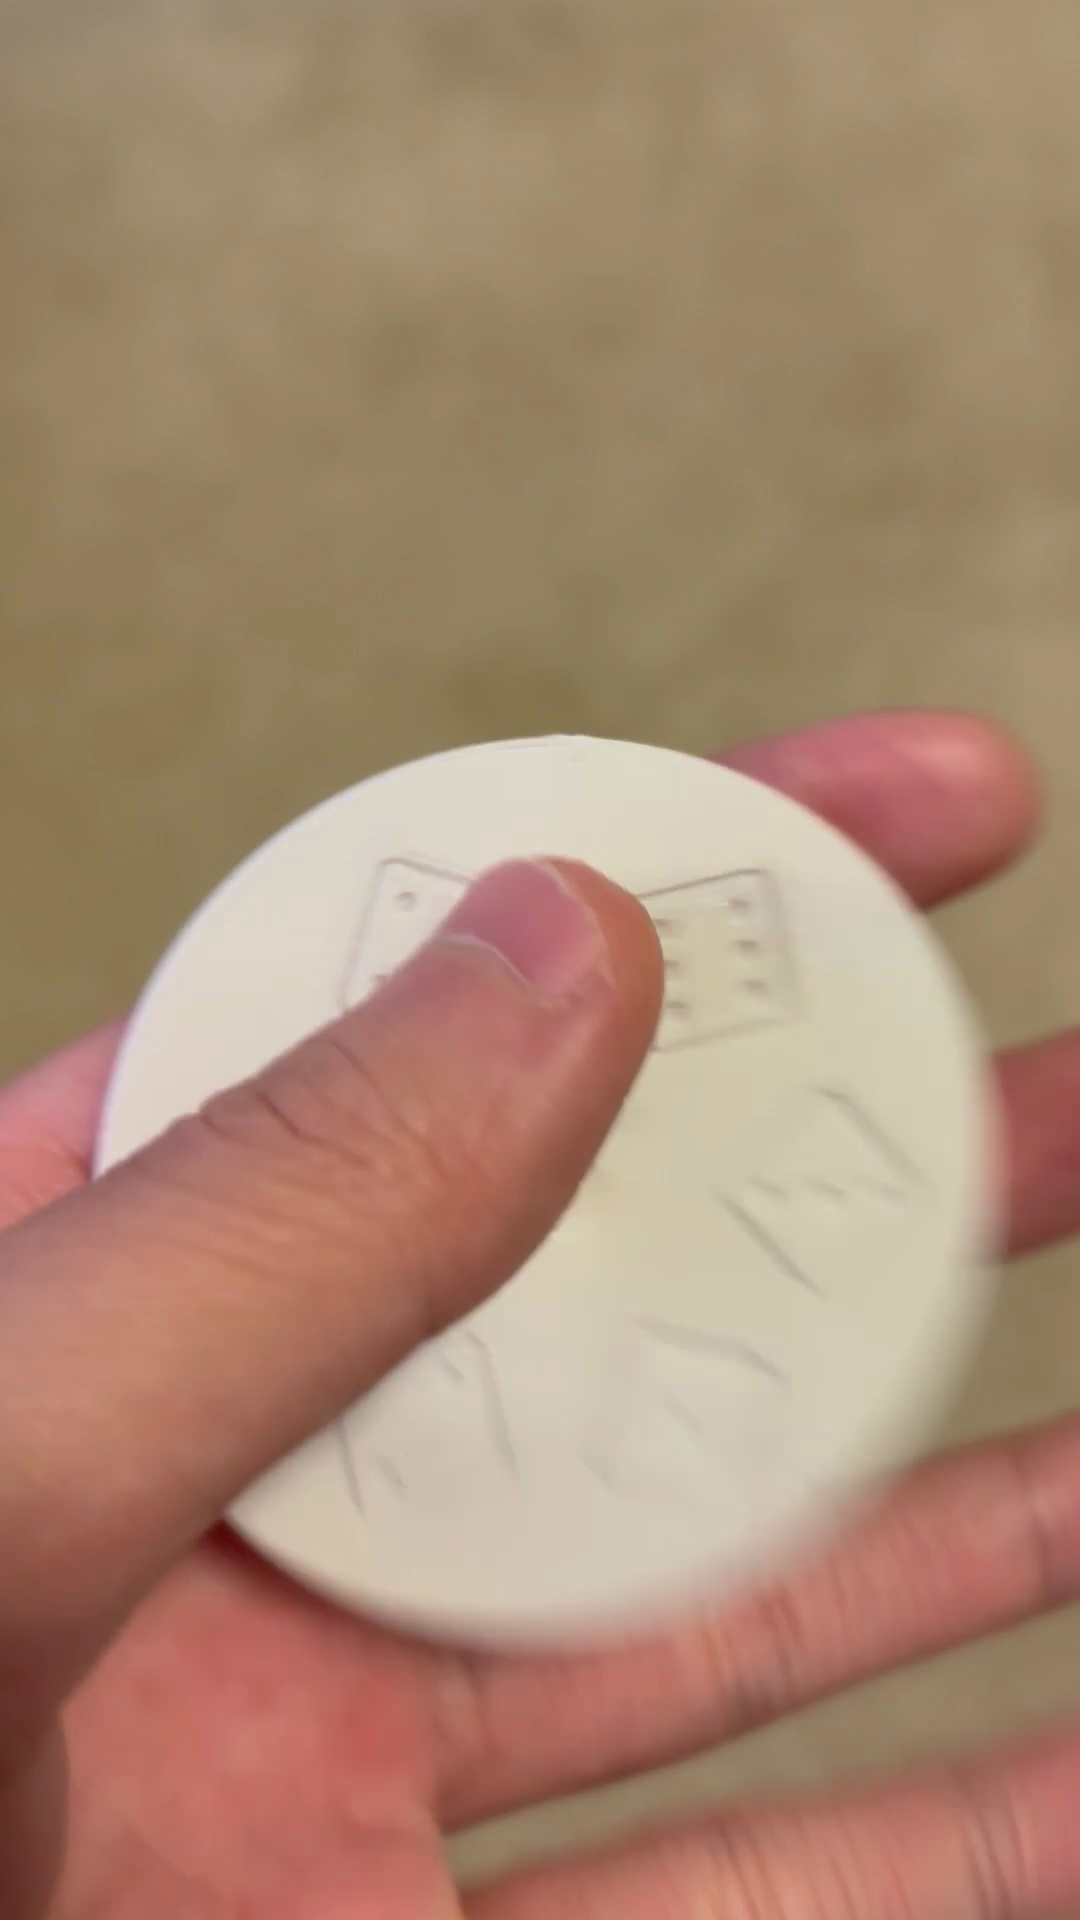Part1: (94, 736, 998, 1647)
